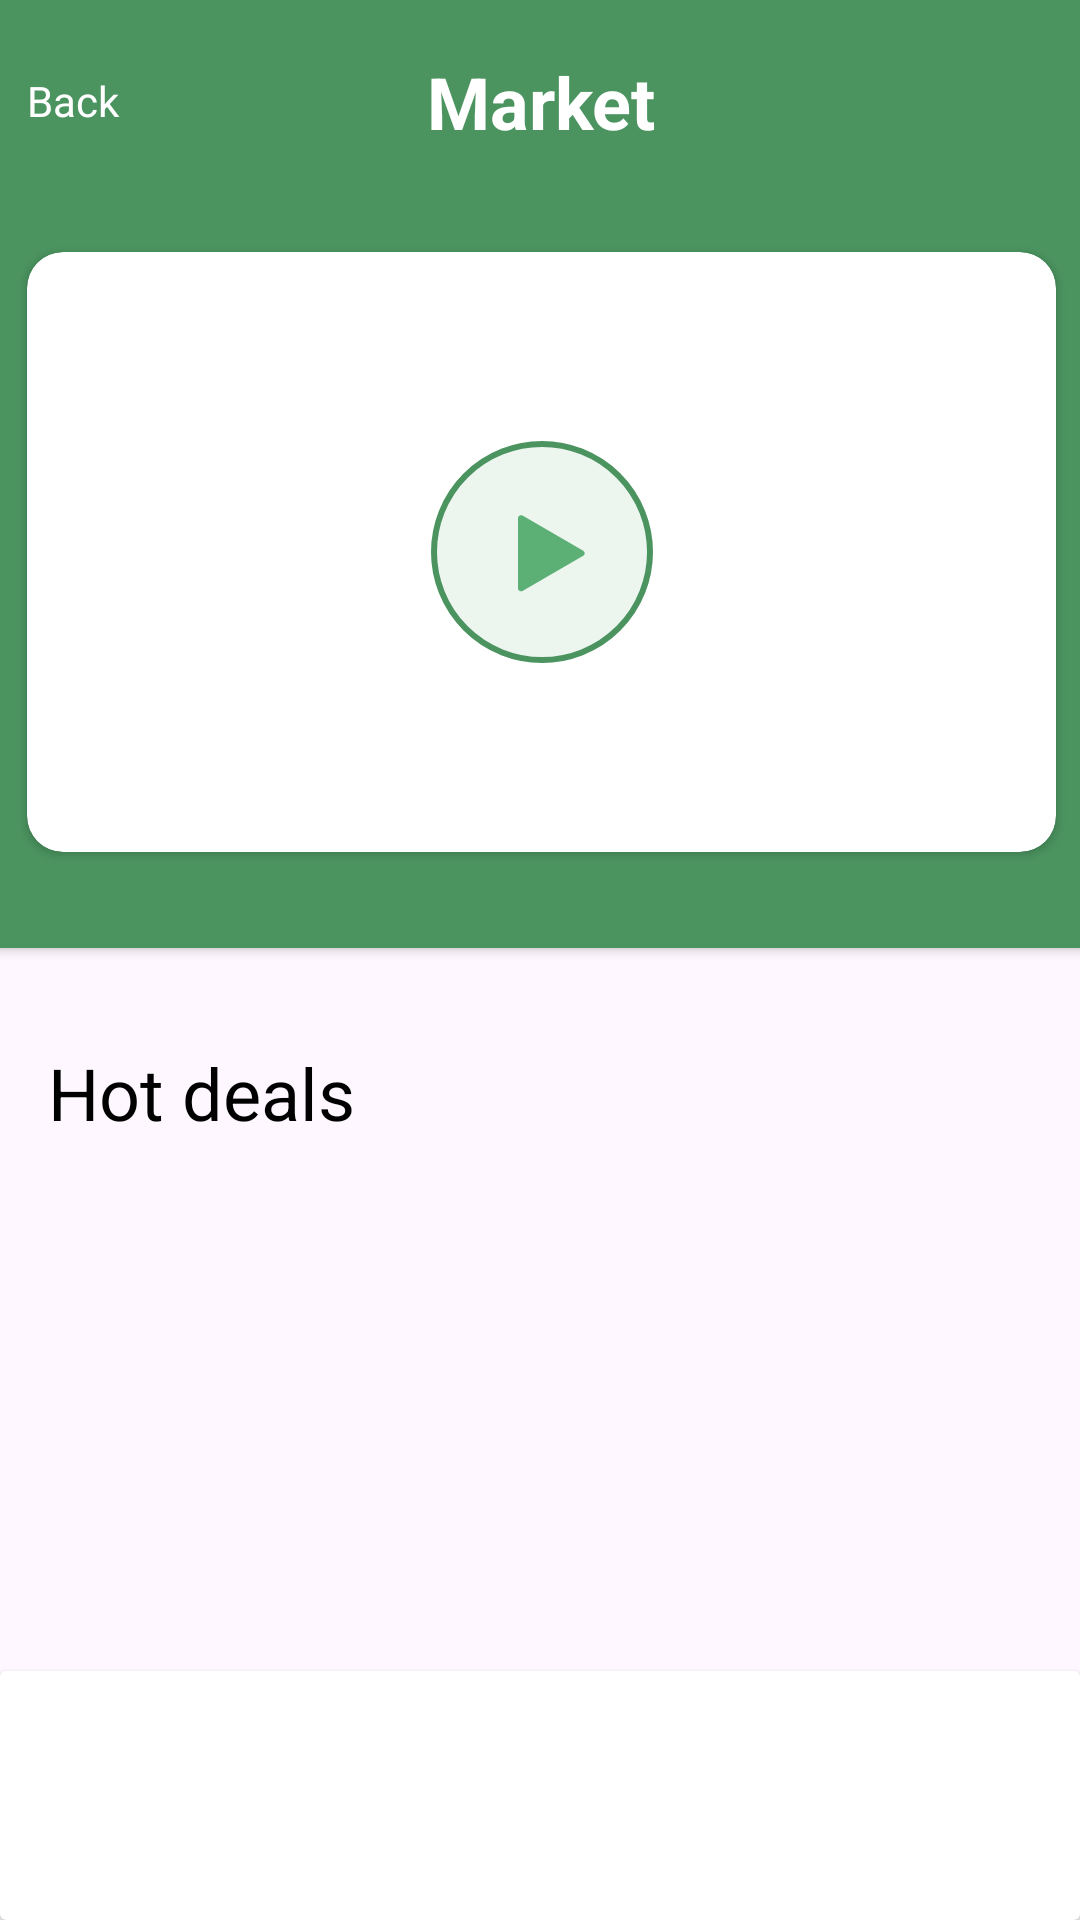

Named icons in this screenshot (1080x1920) and their centers, (x,y):
play: (542,552)
